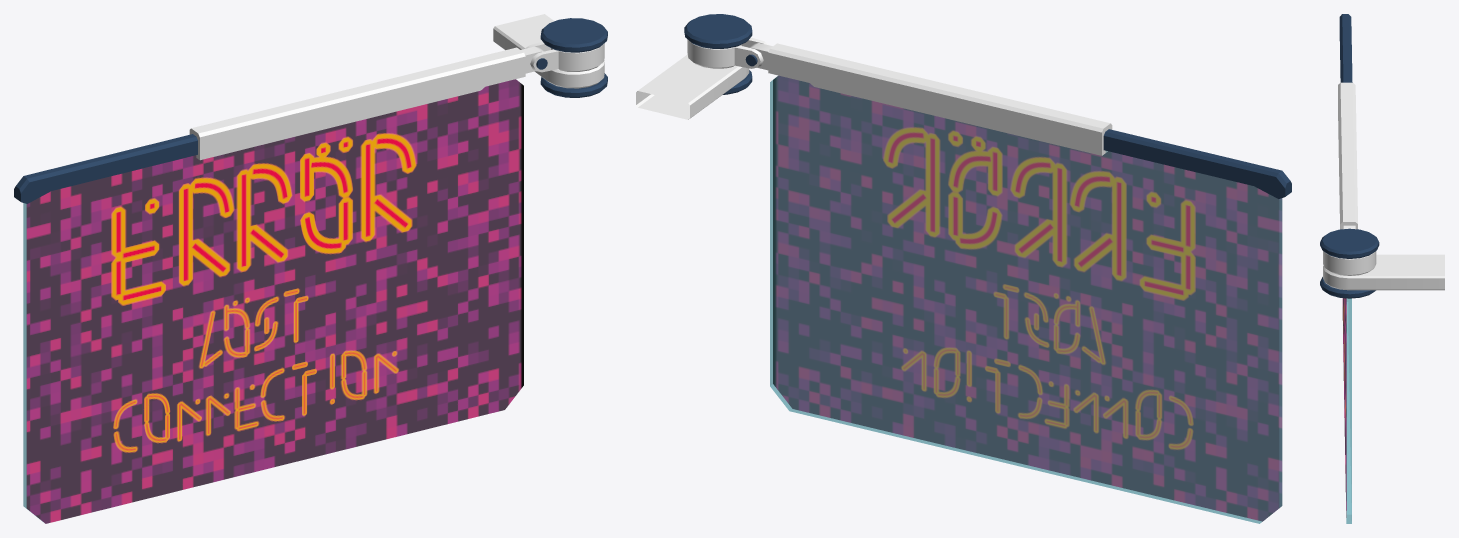
The model's file is Misc_CyberScreenWall_B.glb.
3 renders of one model, left to right at view 1: azimuth 30°, elevation 25°; view 2: azimuth 150°, elevation 25°; view 3: azimuth 270°, elevation 25°, orthographic. The views are drawn at different scales.
Visible parts, largest first — view 1: Misc_CyberScreenWall_B.001; view 2: Misc_CyberScreenWall_B.001; view 3: Misc_CyberScreenWall_B.001.
Boxes of the visible parts, bbox=[...] form: Misc_CyberScreenWall_B.001: bbox=[14, 14, 607, 523]; Misc_CyberScreenWall_B.001: bbox=[636, 14, 1291, 523]; Misc_CyberScreenWall_B.001: bbox=[1320, 14, 1444, 523].
Bounding box in the file's own units: 0.5417 × 0.3165 × 0.1139.
Materials: 5 (1 with a texture image).
